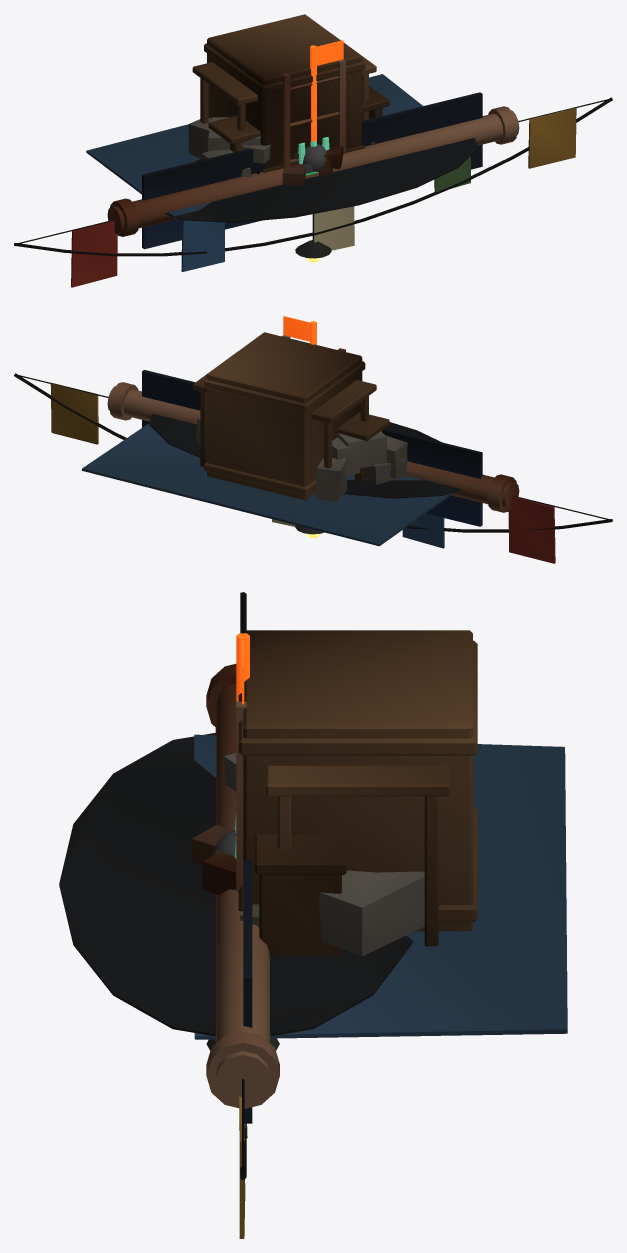
File: comum.glb
3 renders of one model, top to bottom at view 1: azimuth 30°, elevation 25°; view 2: azimuth 150°, elevation 25°; view 3: azimuth 270°, elevation 25°, orthographic. The views are drawn at different scales.
Parts seen in each view (by area): view 1: caixote, varal, poca, cano, placa_reservatorio, lona, mesa, cabo, escada_mao, entulho, banco, ponto_amostra (+3 smaller); view 2: caixote, lona, varal, placa_reservatorio, cano, entulho, poca, mesa, banco, cabo, ponto_amostra; view 3: caixote, poca, lona, cano, banco, mesa, entulho, item_sucata, placa_reservatorio, escada_mao, varal.
Part boxes in pixels (x1=…): caixote: x1=204, y1=14, x2=365, y2=172; varal: x1=17, y1=98, x2=609, y2=287; poca: x1=165, y1=138, x2=477, y2=222; cano: x1=107, y1=106, x2=519, y2=236; placa_reservatorio: x1=142, y1=92, x2=482, y2=249; lona: x1=86, y1=74, x2=422, y2=218; mesa: x1=192, y1=33, x2=376, y2=130; cabo: x1=14, y1=97, x2=612, y2=256; escada_mao: x1=282, y1=59, x2=345, y2=168; entulho: x1=188, y1=117, x2=375, y2=176; banco: x1=208, y1=86, x2=389, y2=152; ponto_amostra: x1=310, y1=40, x2=343, y2=142; caixote: x1=204, y1=332, x2=365, y2=500; lona: x1=81, y1=423, x2=455, y2=546; varal: x1=17, y1=374, x2=611, y2=563; placa_reservatorio: x1=142, y1=370, x2=482, y2=526; cano: x1=107, y1=382, x2=519, y2=512; entulho: x1=195, y1=417, x2=407, y2=502; poca: x1=148, y1=413, x2=461, y2=498; mesa: x1=192, y1=360, x2=376, y2=468; banco: x1=337, y1=412, x2=389, y2=482; cabo: x1=14, y1=373, x2=612, y2=532; ponto_amostra: x1=283, y1=316, x2=316, y2=344; caixote: x1=238, y1=630, x2=477, y2=931; poca: x1=59, y1=732, x2=413, y2=1036; lona: x1=194, y1=734, x2=567, y2=1039; cano: x1=206, y1=664, x2=279, y2=1108; banco: x1=254, y1=834, x2=346, y2=955; mesa: x1=266, y1=765, x2=449, y2=946; entulho: x1=224, y1=753, x2=424, y2=956; item_sucata: x1=191, y1=824, x2=236, y2=895; placa_reservatorio: x1=243, y1=860, x2=252, y2=1123; escada_mao: x1=236, y1=701, x2=246, y2=892; varal: x1=239, y1=595, x2=247, y2=1238.
Size of the model in its own units: 6.01 by 2.07 by 2.21.
